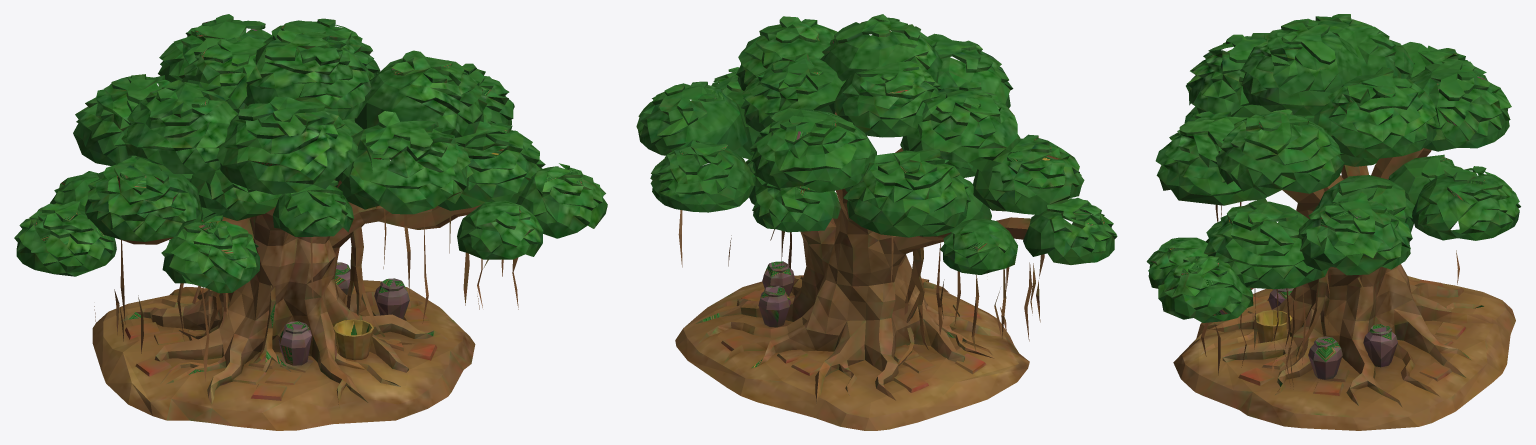
Rendered from cay-da-xa.c142952e.glb.
The picture shows the model from 3 angles, left to right: view 1: azimuth 30°, elevation 25°; view 2: azimuth 150°, elevation 25°; view 3: azimuth 270°, elevation 25°; orthographic projection. The views are drawn at different scales.
Parts seen in each view (by area): view 1: bc180ea3_5f6c_4104_8eb2_8c2deb93a9f0; view 2: bc180ea3_5f6c_4104_8eb2_8c2deb93a9f0; view 3: bc180ea3_5f6c_4104_8eb2_8c2deb93a9f0.
Boxes of the visible parts, x1=… form: bc180ea3_5f6c_4104_8eb2_8c2deb93a9f0: x1=14, y1=14, x2=607, y2=430; bc180ea3_5f6c_4104_8eb2_8c2deb93a9f0: x1=636, y1=14, x2=1117, y2=430; bc180ea3_5f6c_4104_8eb2_8c2deb93a9f0: x1=1146, y1=14, x2=1520, y2=430.
Size of the model in its own units: 0.9976 by 0.6333 by 0.6704.
Materials: 1 (1 with a texture image).
